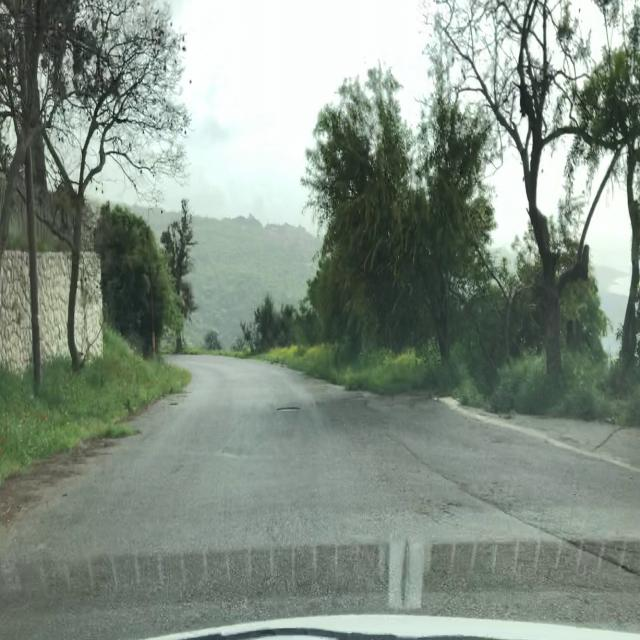Pothole: (275, 406, 303, 413)
